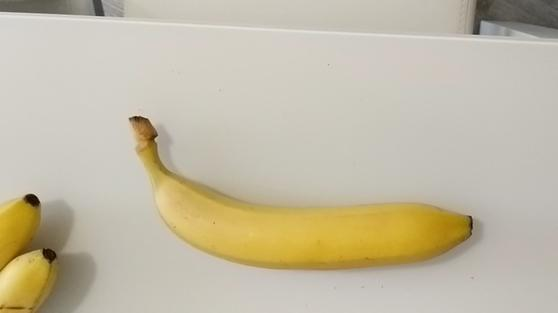banana: (132, 112, 478, 273)
